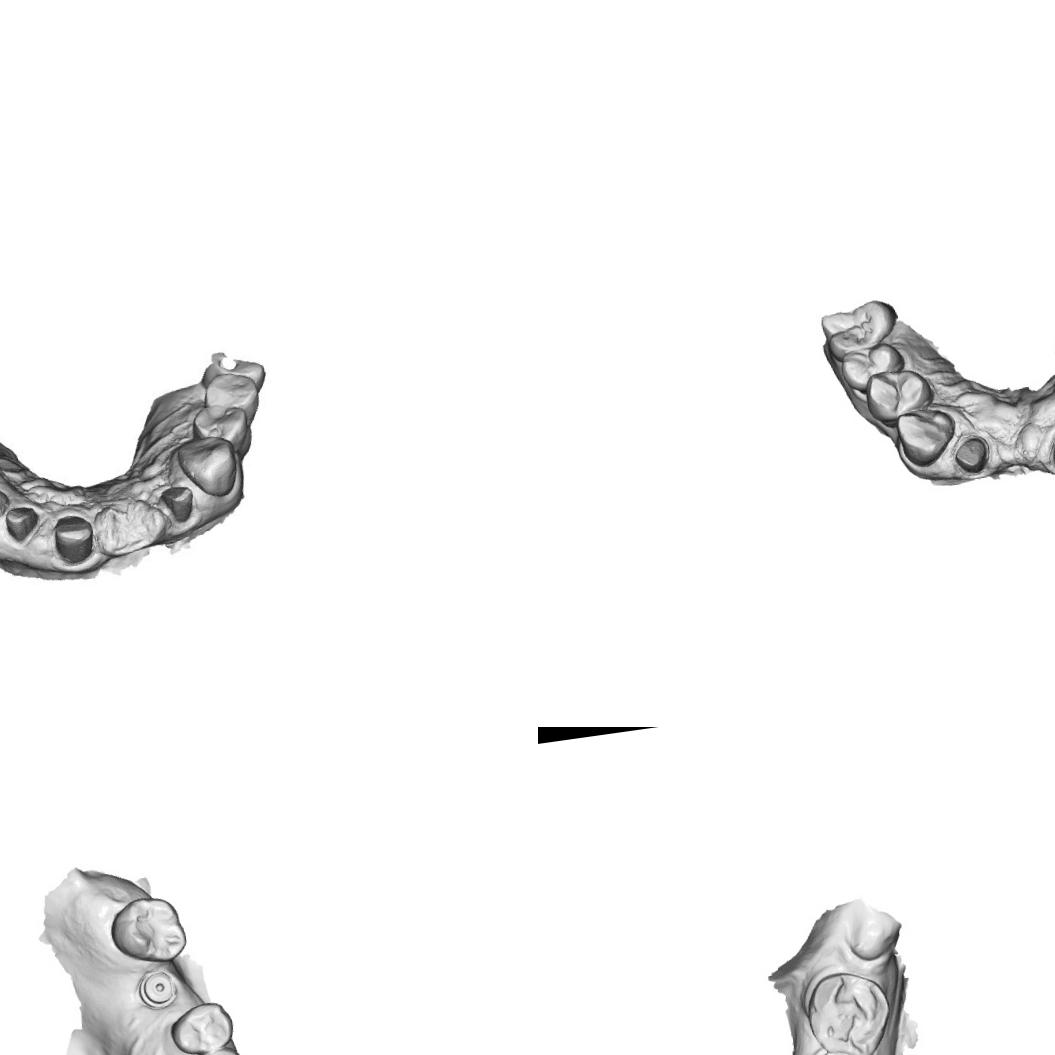canine: (180, 434, 248, 503), (892, 405, 959, 471)
crown: (51, 507, 102, 569), (950, 432, 993, 474), (0, 498, 38, 543), (158, 480, 198, 520), (1044, 422, 1055, 480)
implant: (134, 966, 180, 1014)
molar: (799, 963, 897, 1055), (106, 891, 190, 970), (818, 297, 900, 360), (837, 339, 908, 394)
premolar: (861, 364, 936, 426), (166, 998, 238, 1055), (192, 395, 258, 450), (204, 362, 263, 414)
